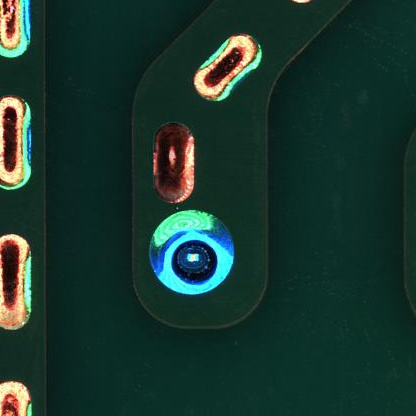spot: (135, 205, 246, 302)
